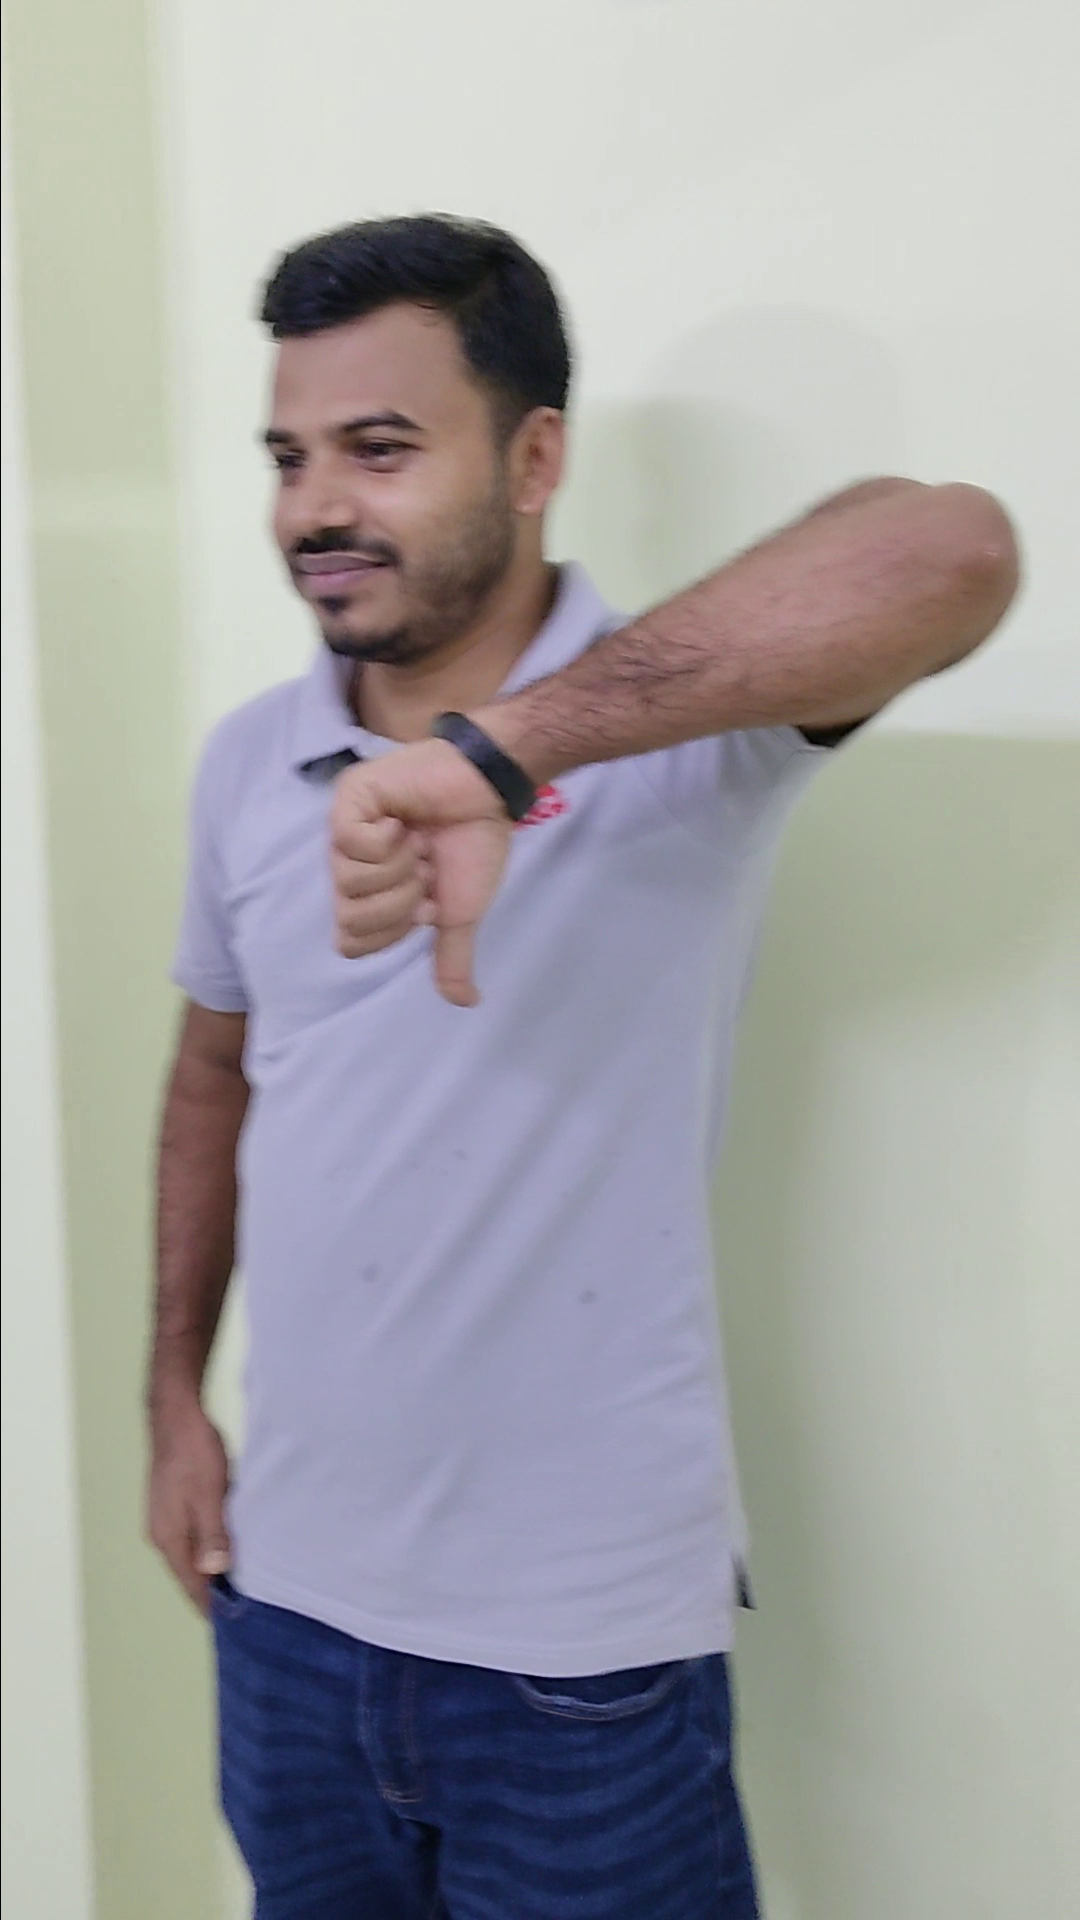Dislike: (310, 705, 541, 1030)
None: (123, 1356, 269, 1648)
